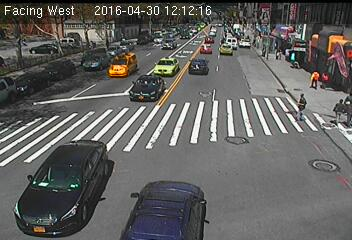neg: (242, 141, 269, 176), (296, 169, 319, 201), (46, 61, 66, 88), (117, 124, 137, 151), (165, 54, 185, 80), (131, 30, 149, 54), (83, 85, 99, 107), (27, 52, 40, 71), (95, 53, 106, 68)
pos: (290, 87, 314, 119), (322, 95, 344, 123), (304, 66, 319, 87), (319, 68, 333, 88), (259, 40, 272, 57), (288, 51, 300, 68), (86, 37, 98, 54), (251, 32, 262, 46)
